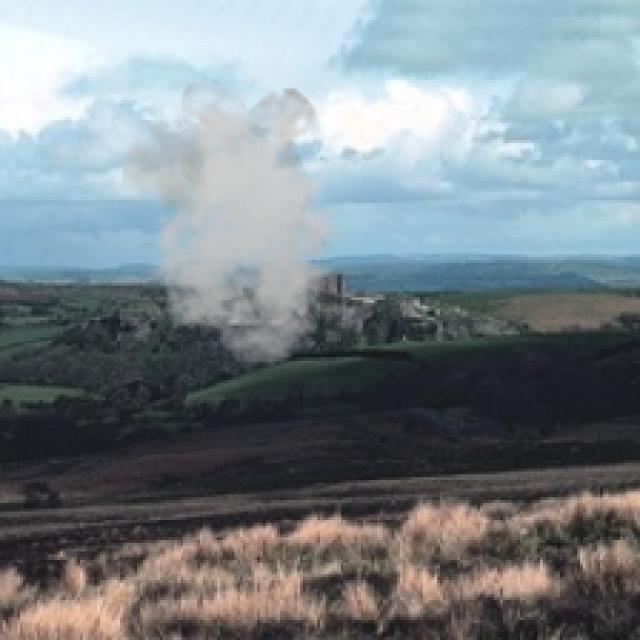smoke: (123, 83, 357, 366)
